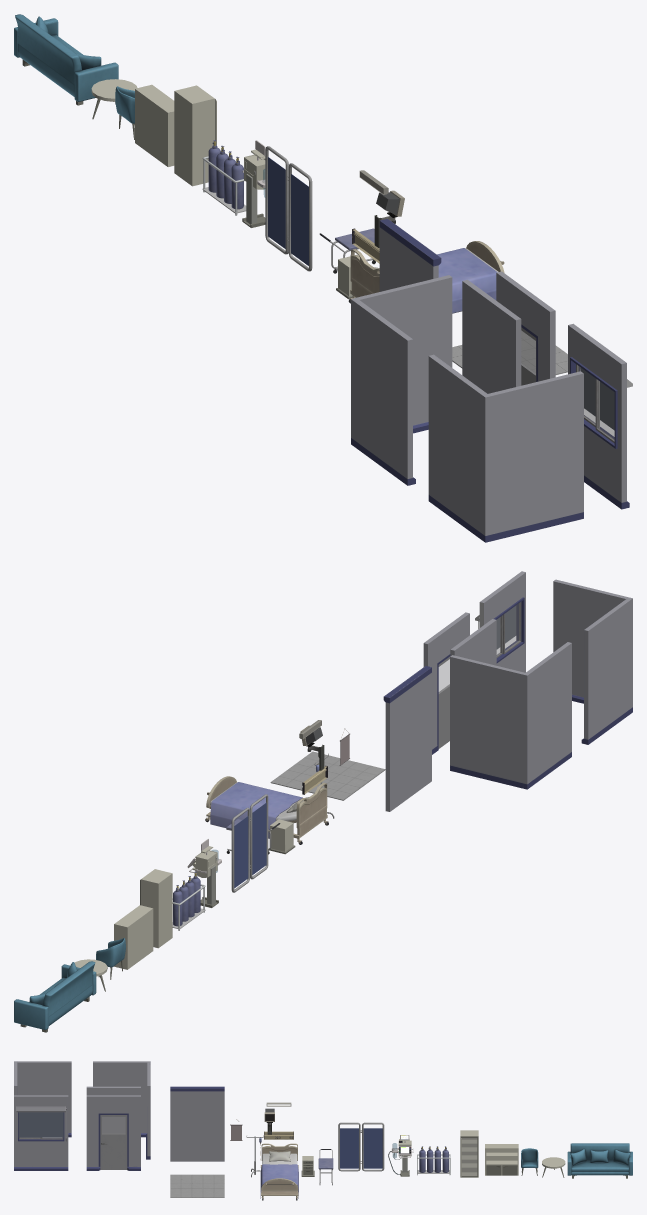
3 renders of one model, top to bottom at view 1: azimuth 30°, elevation 25°; view 2: azimuth 150°, elevation 25°; view 3: azimuth 270°, elevation 25°, orthographic. The views are drawn at different scales.
Parts seen in each view (by area): view 1: Wall1-material, Wall2-material, WindowWall-material, Wall3-material, Sofa-material, Curtain-material, Bed-material, Cabinet1-material, Wall5-material, DoorWall-material, Cabinet2-material, OxygenTube-material (+3 smaller); view 2: Wall2-material, Wall1-material, Wall5-material, Bed-material, WindowWall-material, Sofa-material, Curtain-material, Ground-material, DoorWall-material, Cabinet1-material, Cabinet2-material, Wall3-material (+4 smaller); view 3: WindowWall-material, Wall5-material, DoorWall-material, Wall1-material, Curtain-material, Sofa-material, Wall2-material, Bed-material, Door-material, Ground-material, Cabinet2-material, Wall3-material (+10 smaller).
Part boxes in pixels (left/top/right/bottom): Wall1-material: left=428, top=354, right=583, bottom=542; Wall2-material: left=351, top=275, right=452, bottom=485; WindowWall-material: left=568, top=323, right=632, bottom=509; Wall3-material: left=462, top=279, right=521, bottom=393; Sofa-material: left=14, top=14, right=118, bottom=105; Curtain-material: left=265, top=146, right=312, bottom=271; Bed-material: left=348, top=241, right=504, bottom=313; Cabinet1-material: left=174, top=85, right=214, bottom=186; Wall5-material: left=379, top=218, right=441, bottom=291; DoorWall-material: left=496, top=271, right=555, bottom=381; Cabinet2-material: left=135, top=84, right=174, bottom=166; OxygenTube-material: left=202, top=140, right=246, bottom=215; Wall2-material: left=450, top=642, right=571, bottom=789; Wall1-material: left=553, top=579, right=632, bottom=744; Wall5-material: left=383, top=666, right=431, bottom=811; Bed-material: left=205, top=776, right=328, bottom=844; WindowWall-material: left=475, top=571, right=525, bottom=672; Sofa-material: left=14, top=961, right=96, bottom=1032; Curtain-material: left=231, top=794, right=268, bottom=892; Ground-material: left=270, top=751, right=385, bottom=800; DoorWall-material: left=423, top=612, right=469, bottom=754; Cabinet1-material: left=141, top=869, right=172, bottom=948; Cabinet2-material: left=114, top=905, right=153, bottom=969; Wall3-material: left=450, top=619, right=496, bottom=665; WindowWall-material: left=14, top=1095, right=68, bottom=1170; Wall5-material: left=170, top=1086, right=224, bottom=1161; DoorWall-material: left=86, top=1095, right=140, bottom=1170; Wall1-material: left=14, top=1061, right=71, bottom=1137; Curtain-material: left=338, top=1122, right=384, bottom=1171; Sofa-material: left=567, top=1143, right=632, bottom=1178; Wall2-material: left=93, top=1061, right=150, bottom=1159; Bed-material: left=260, top=1143, right=298, bottom=1200; Door-material: left=100, top=1115, right=127, bottom=1169; Ground-material: left=170, top=1174, right=224, bottom=1197; Cabinet2-material: left=485, top=1144, right=518, bottom=1175; Wall3-material: left=86, top=1086, right=140, bottom=1133.
Size of the model in its own units: 0.9374 by 0.491 by 3.7.
Materials: 30 (30 with a texture image).
